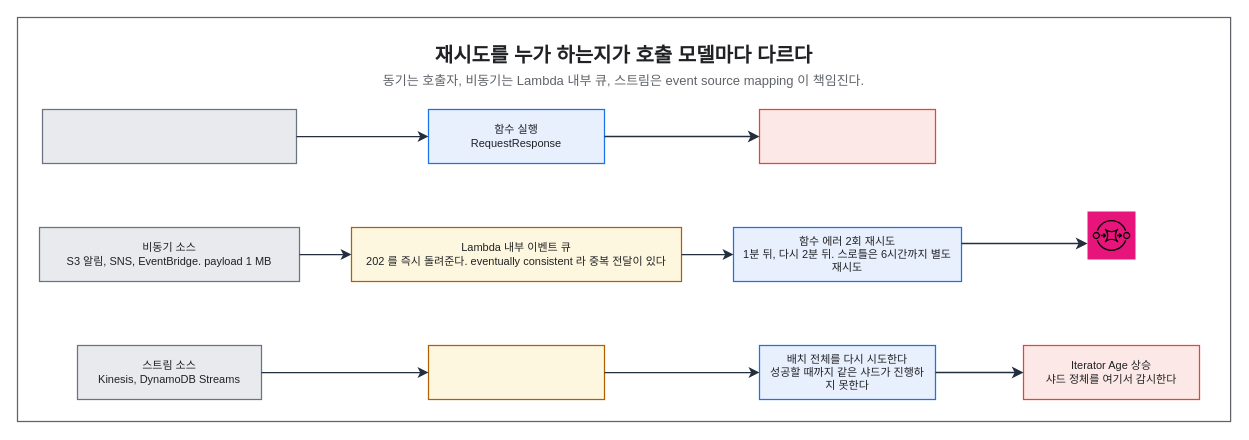
This 1249x440 diagram has some shape labels left out. The centre of each missing label's shape, as x and y in pixels:
DLQ 와 on-failure destination 재시도가 소진된 이벤트를 여기서 잡는다: (x=1111, y=235)
event source mapping Lambda 가 폴링해 배치로 넘긴다: (x=516, y=372)
동기 호출자 API Gateway, ALB, SDK. 요청과 응답 각 6 MB: (x=169, y=136)
에러가 호출자에게 그대로 간다 Lambda 는 대신 재시도하지 않는다: (x=847, y=136)
